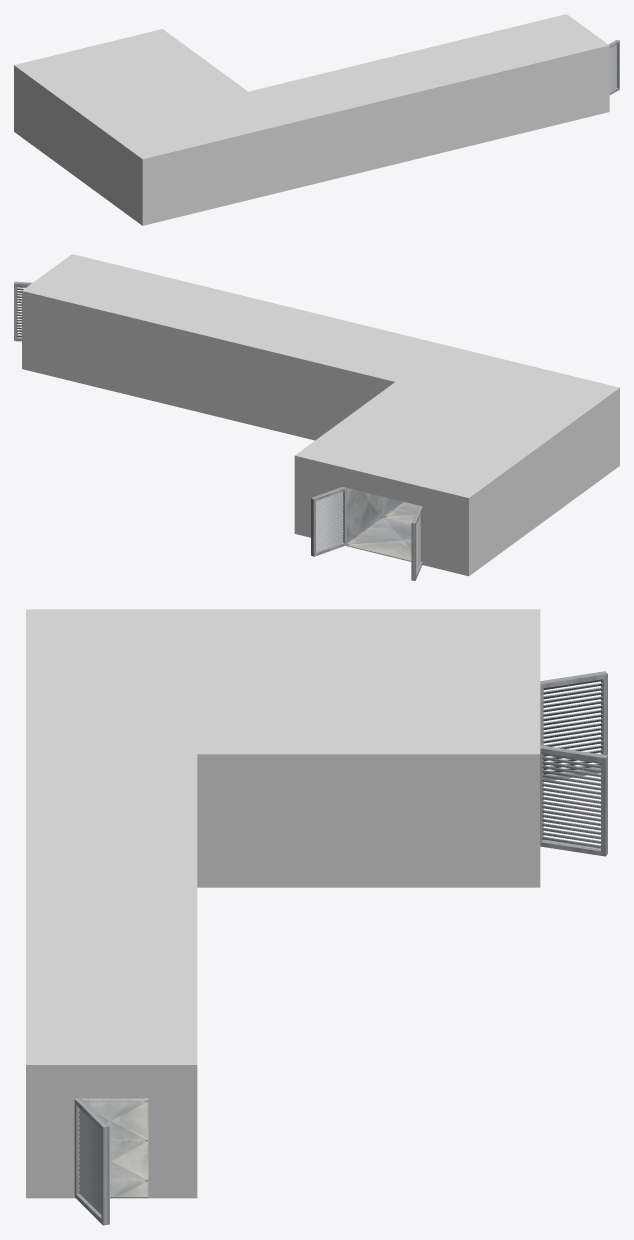
Rendered from Vent1.fbx.
3 renders of one model, top to bottom at view 1: azimuth 30°, elevation 25°; view 2: azimuth 150°, elevation 25°; view 3: azimuth 270°, elevation 25°, orthographic. The views are drawn at different scales.
Parts seen in each view (by area): view 1: Cube.002; view 2: Cube.002, Cube.044, Cube.045; view 3: Cube.002, Cube, Cube.044, Cube.045.
Part boxes in pixels (<box>): Cube.002: <box>14,14,609,225</box>; Cube.002: <box>22,254,619,576</box>; Cube.044: <box>311,487,346,556</box>; Cube.045: <box>411,505,422,580</box>; Cube.002: <box>26,609,540,1198</box>; Cube: <box>74,1098,109,1225</box>; Cube.044: <box>540,745,607,856</box>; Cube.045: <box>540,671,607,780</box>.
Size of the model in its own units: 4681 by 600 by 2376.
